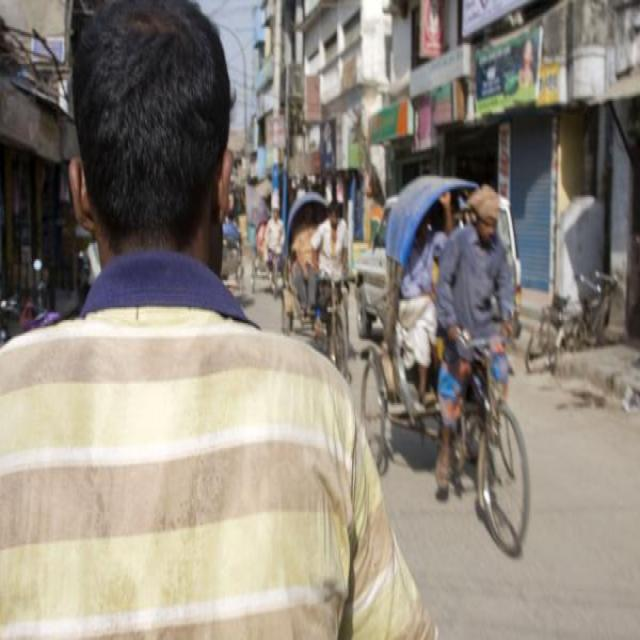Rickshaw: (349, 160, 549, 569), (258, 173, 386, 414)
